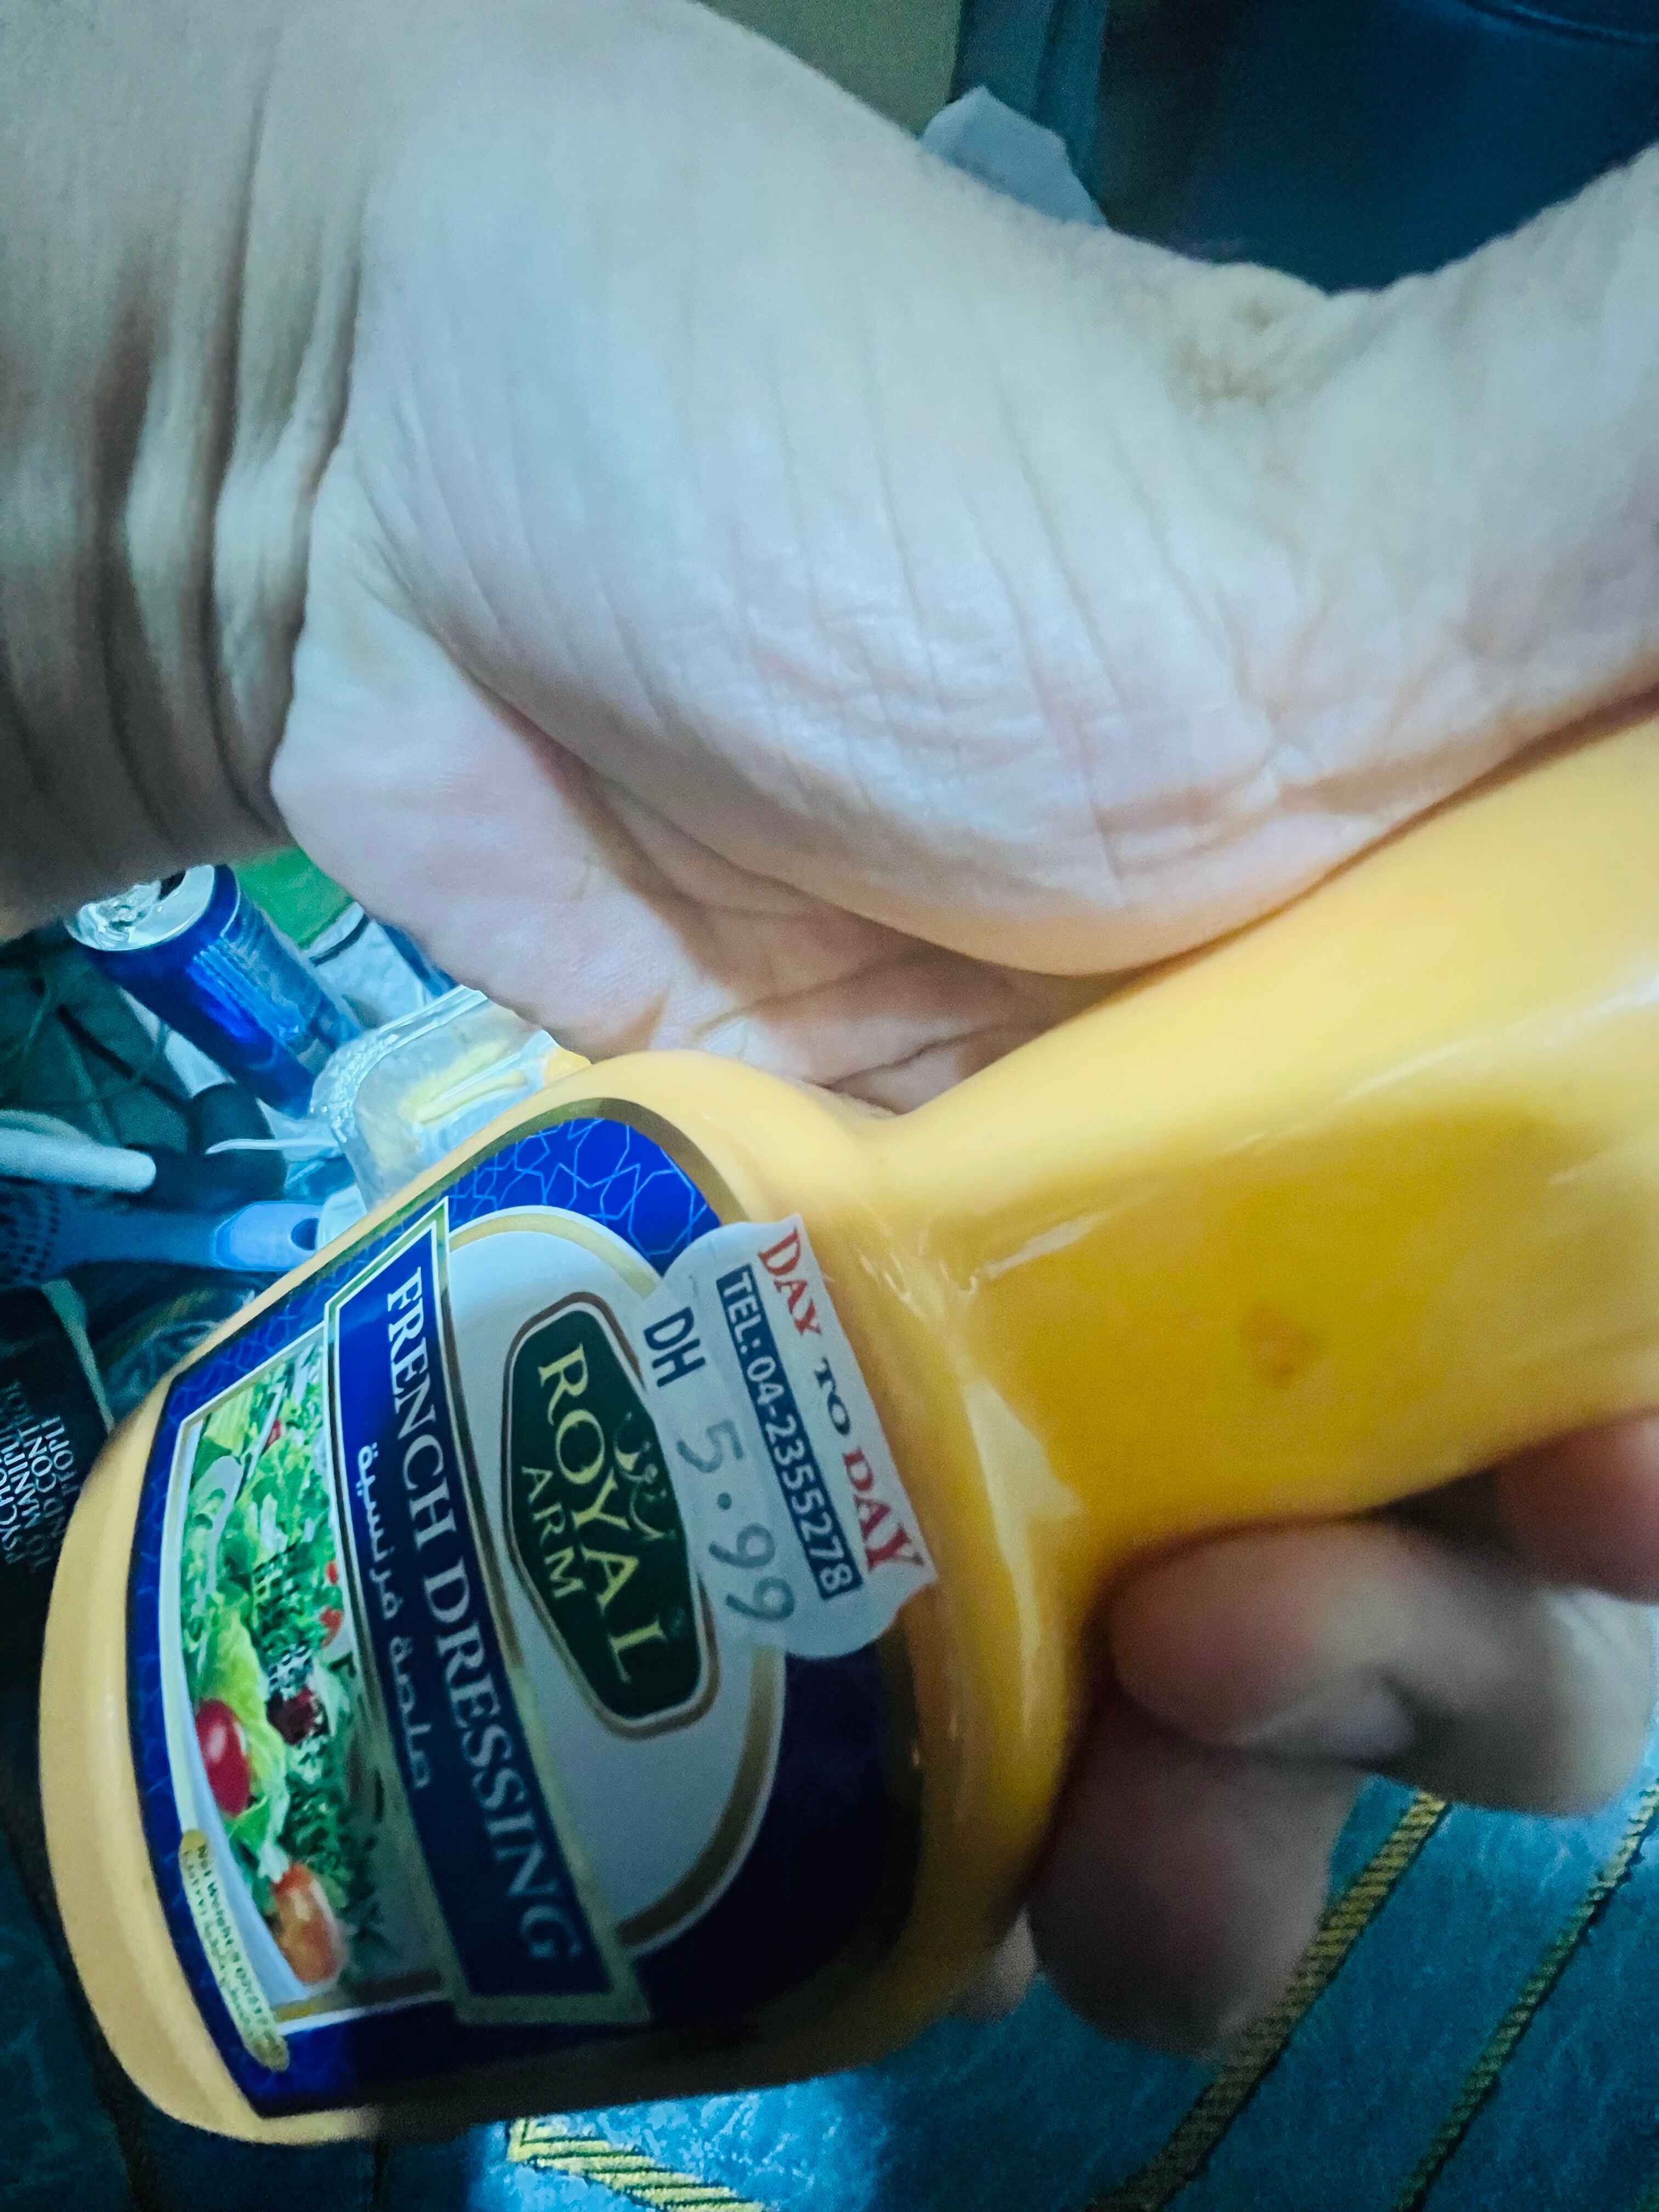PriceTagSmall: (640, 1212, 948, 1686)
